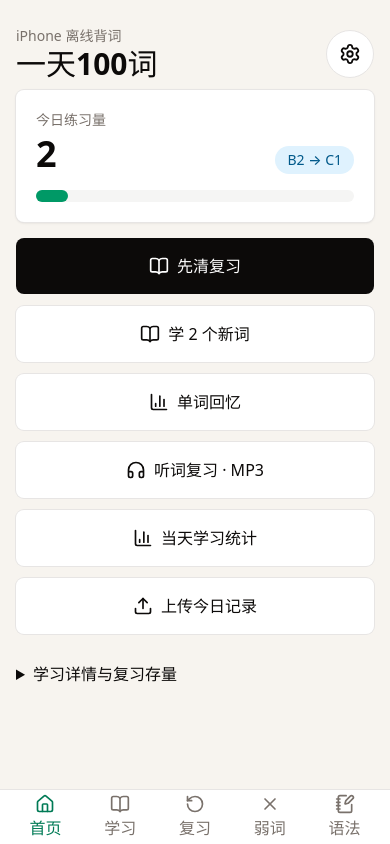
Test case: actual session navigation › retains the current revealed word when storage fails, then advances after a successful retry
Click the button "学习" at point(120, 817), box [83, 794, 158, 840]
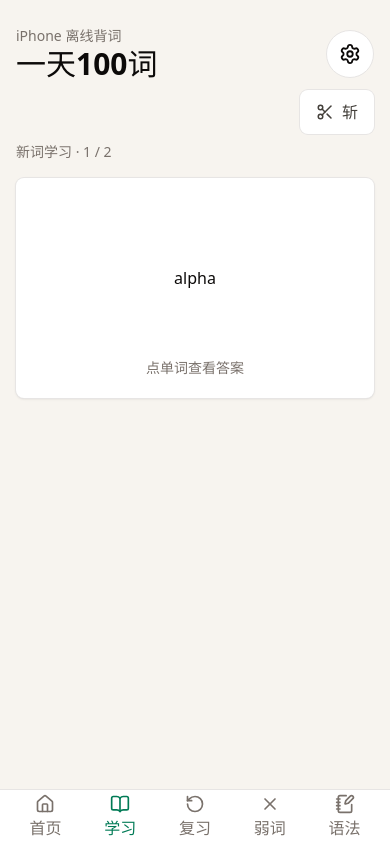
Expected: the button "alpha" is shown
Click the button "alpha" at point(195, 278), box [36, 198, 354, 358]
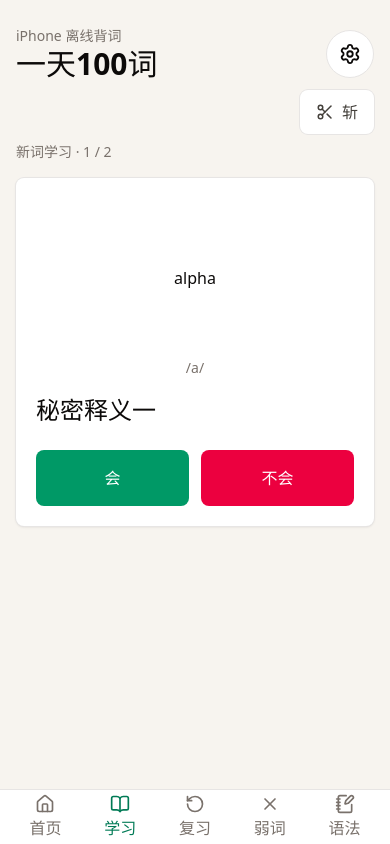
Expected: the button "会" is shown
Click the button "会" at point(112, 478), box [36, 450, 189, 506]
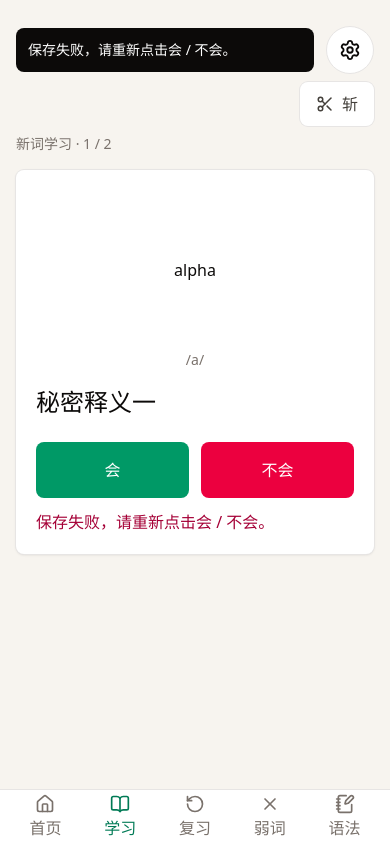
Expected: the element named "单词回忆" shows "秘密释义一", [36, 385, 156, 418]
Expected: the button "会" is shown
Click the button "会" at point(112, 470), box [36, 442, 189, 498]
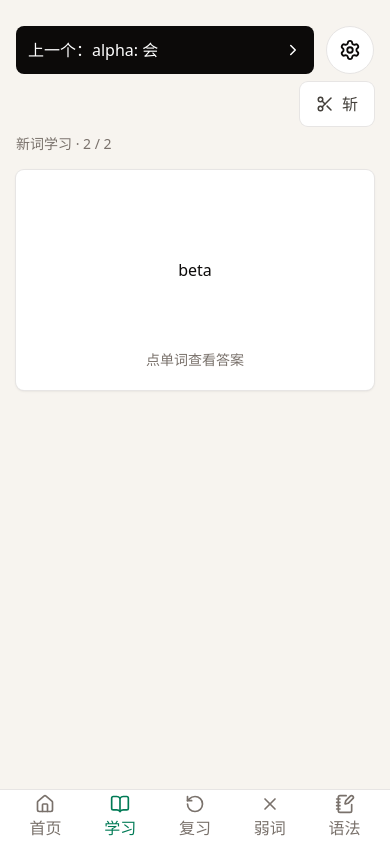
Expected: the element named "单词回忆" is shown, [16, 134, 374, 390]
Expected: the element named "单词回忆" shows "beta", [36, 190, 354, 350]
